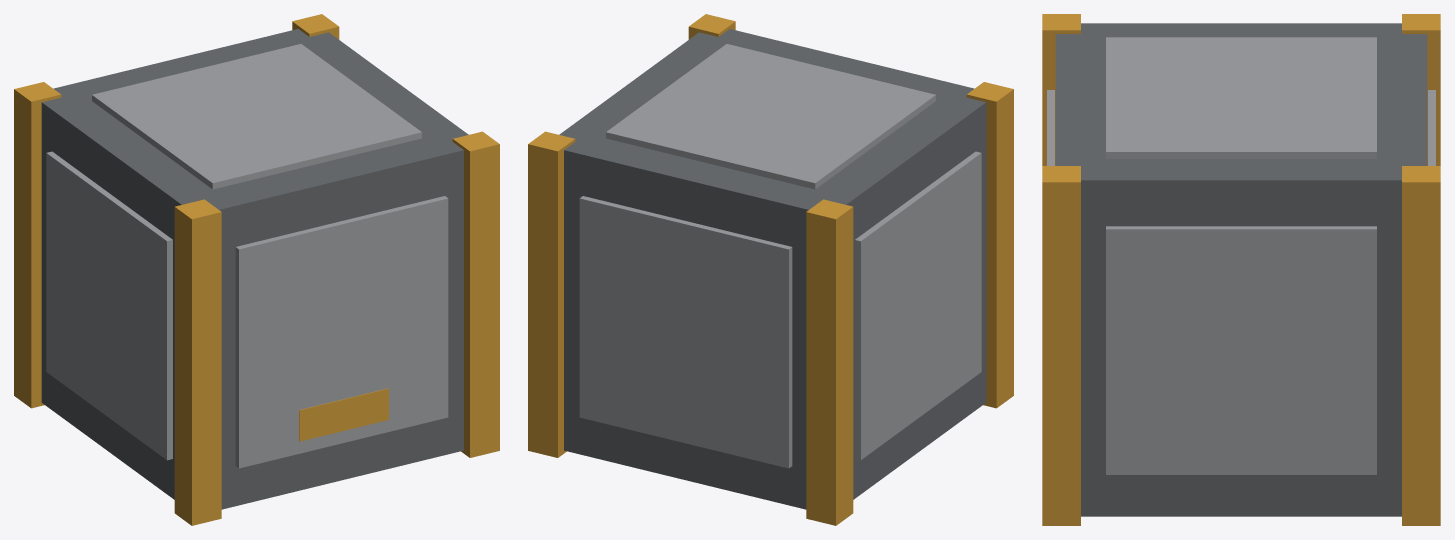
Rendered from cargo_cube_flat.glb.
3 renders of one model, left to right at view 1: azimuth 30°, elevation 25°; view 2: azimuth 150°, elevation 25°; view 3: azimuth 270°, elevation 25°, orthographic. The views are drawn at different scales.
Parts seen in each view (by area): view 1: cargo_cube_cube; view 2: cargo_cube_cube; view 3: cargo_cube_cube.
Boxes of the visible parts, <box> form: cargo_cube_cube: <box>14,14,499,525</box>; cargo_cube_cube: <box>528,14,1013,525</box>; cargo_cube_cube: <box>1042,14,1440,525</box>.
Size of the model in its own units: 0.5665 by 0.5445 by 0.5665.
